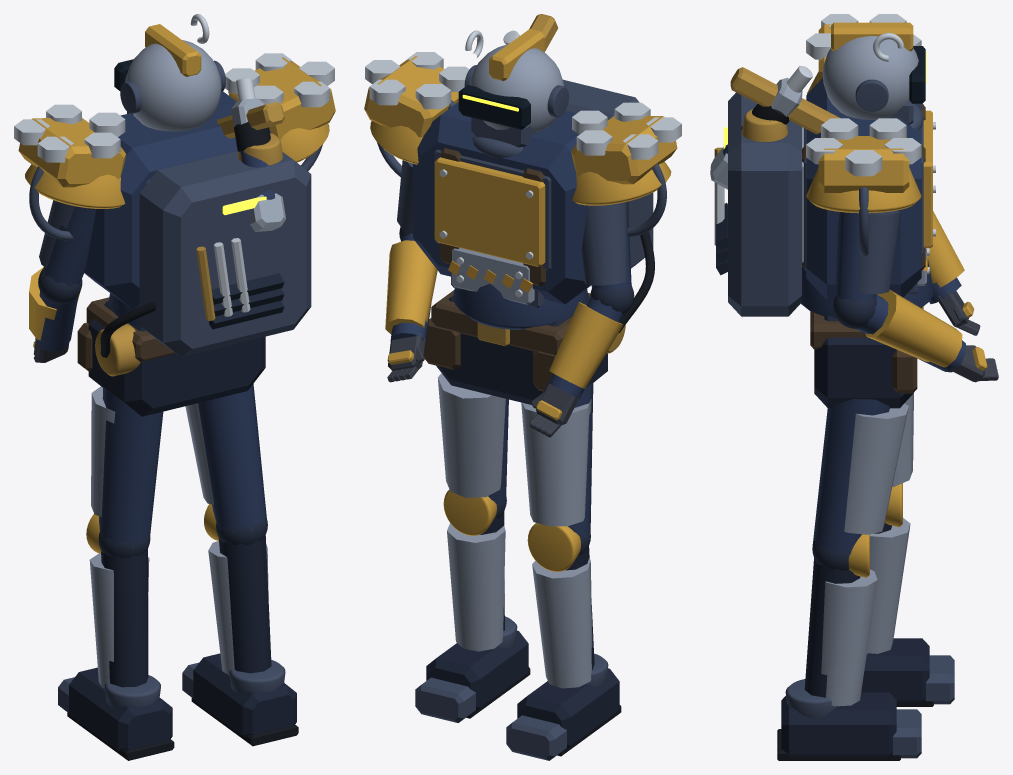
Rendered from hero_forge.glb.
The picture shows the model from 3 angles, left to right: view 1: azimuth 30°, elevation 25°; view 2: azimuth 150°, elevation 25°; view 3: azimuth 270°, elevation 25°; orthographic projection. The views are drawn at different scales.
Visible parts, largest first — view 1: hero_forge_pack_body, hero_forge_chest, hero_forge_pelvis, hero_forge_thigh_l, hero_forge_thigh_r, hero_forge_helmet, hero_forge_shin_r, hero_forge_shin_l, hero_forge_boot_l, hero_forge_boot_r, hero_forge_pauldron_bolts-1, hero_forge_pauldron_heavy-1 (+34 smaller); view 2: hero_forge_chest, hero_forge_chest_plate_face, hero_forge_thigh_plate_r, hero_forge_thigh_plate_l, hero_forge_greave_l, hero_forge_greave_r, hero_forge_pelvis, hero_forge_boot_l, hero_forge_boot_r, hero_forge_helmet, hero_forge_bracer_r, hero_forge_bicep_plate_l (+36 smaller); view 3: hero_forge_pack_body, hero_forge_chest, hero_forge_boot_r, hero_forge_greave_r, hero_forge_thigh_plate_r, hero_forge_helmet, hero_forge_pelvis, hero_forge_thigh_r, hero_forge_bracer_r, hero_forge_greave_l, hero_forge_pauldron_bolts1, hero_forge_pauldron_heavy1 (+32 smaller).
Part boxes in pixels (x1=…): hero_forge_pack_body: x1=139, y1=151, x2=311, y2=356; hero_forge_chest: x1=84, y1=91, x2=271, y2=308; hero_forge_pelvis: x1=88, y1=301, x2=265, y2=416; hero_forge_thigh_l: x1=99, y1=387, x2=163, y2=549; hero_forge_thigh_r: x1=198, y1=384, x2=266, y2=534; hero_forge_helmet: x1=125, y1=40, x2=221, y2=131; hero_forge_shin_r: x1=218, y1=536, x2=271, y2=673; hero_forge_shin_l: x1=101, y1=549, x2=148, y2=687; hero_forge_boot_l: x1=69, y1=667, x2=172, y2=752; hero_forge_boot_r: x1=193, y1=653, x2=296, y2=737; hero_forge_pauldron_bolts-1: x1=14, y1=104, x2=125, y2=162; hero_forge_pauldron_heavy-1: x1=18, y1=118, x2=125, y2=187; hero_forge_chest: x1=413, y1=102, x2=628, y2=304; hero_forge_chest_plate_face: x1=434, y1=157, x2=545, y2=266; hero_forge_thigh_plate_r: x1=437, y1=373, x2=505, y2=497; hero_forge_thigh_plate_l: x1=521, y1=399, x2=591, y2=526; hero_forge_greave_l: x1=532, y1=559, x2=592, y2=688; hero_forge_greave_r: x1=447, y1=523, x2=505, y2=651; hero_forge_pelvis: x1=436, y1=295, x2=607, y2=404; hero_forge_boot_l: x1=517, y1=668, x2=619, y2=747; hero_forge_boot_r: x1=426, y1=630, x2=528, y2=709; hero_forge_helmet: x1=469, y1=44, x2=563, y2=131; hero_forge_bracer_r: x1=385, y1=240, x2=437, y2=334; hero_forge_bicep_plate_l: x1=581, y1=201, x2=627, y2=285; hero_forge_pack_body: x1=728, y1=92, x2=801, y2=316; hero_forge_chest: x1=806, y1=78, x2=921, y2=300; hero_forge_boot_r: x1=781, y1=692, x2=896, y2=756; hero_forge_greave_r: x1=821, y1=569, x2=877, y2=706; hero_forge_thigh_plate_r: x1=844, y1=403, x2=908, y2=534; hero_forge_helmet: x1=822, y1=36, x2=918, y2=119; hero_forge_pelvis: x1=814, y1=316, x2=913, y2=408; hero_forge_thigh_r: x1=812, y1=399, x2=889, y2=558; hero_forge_bracer_r: x1=865, y1=289, x2=962, y2=367; hero_forge_greave_l: x1=867, y1=518, x2=910, y2=653; hero_forge_pauldron_bolts1: x1=806, y1=118, x2=921, y2=176; hero_forge_pauldron_heavy1: x1=818, y1=136, x2=909, y2=192.
Size of the model in its own units: 0.8608 by 1.9 by 0.7002.
